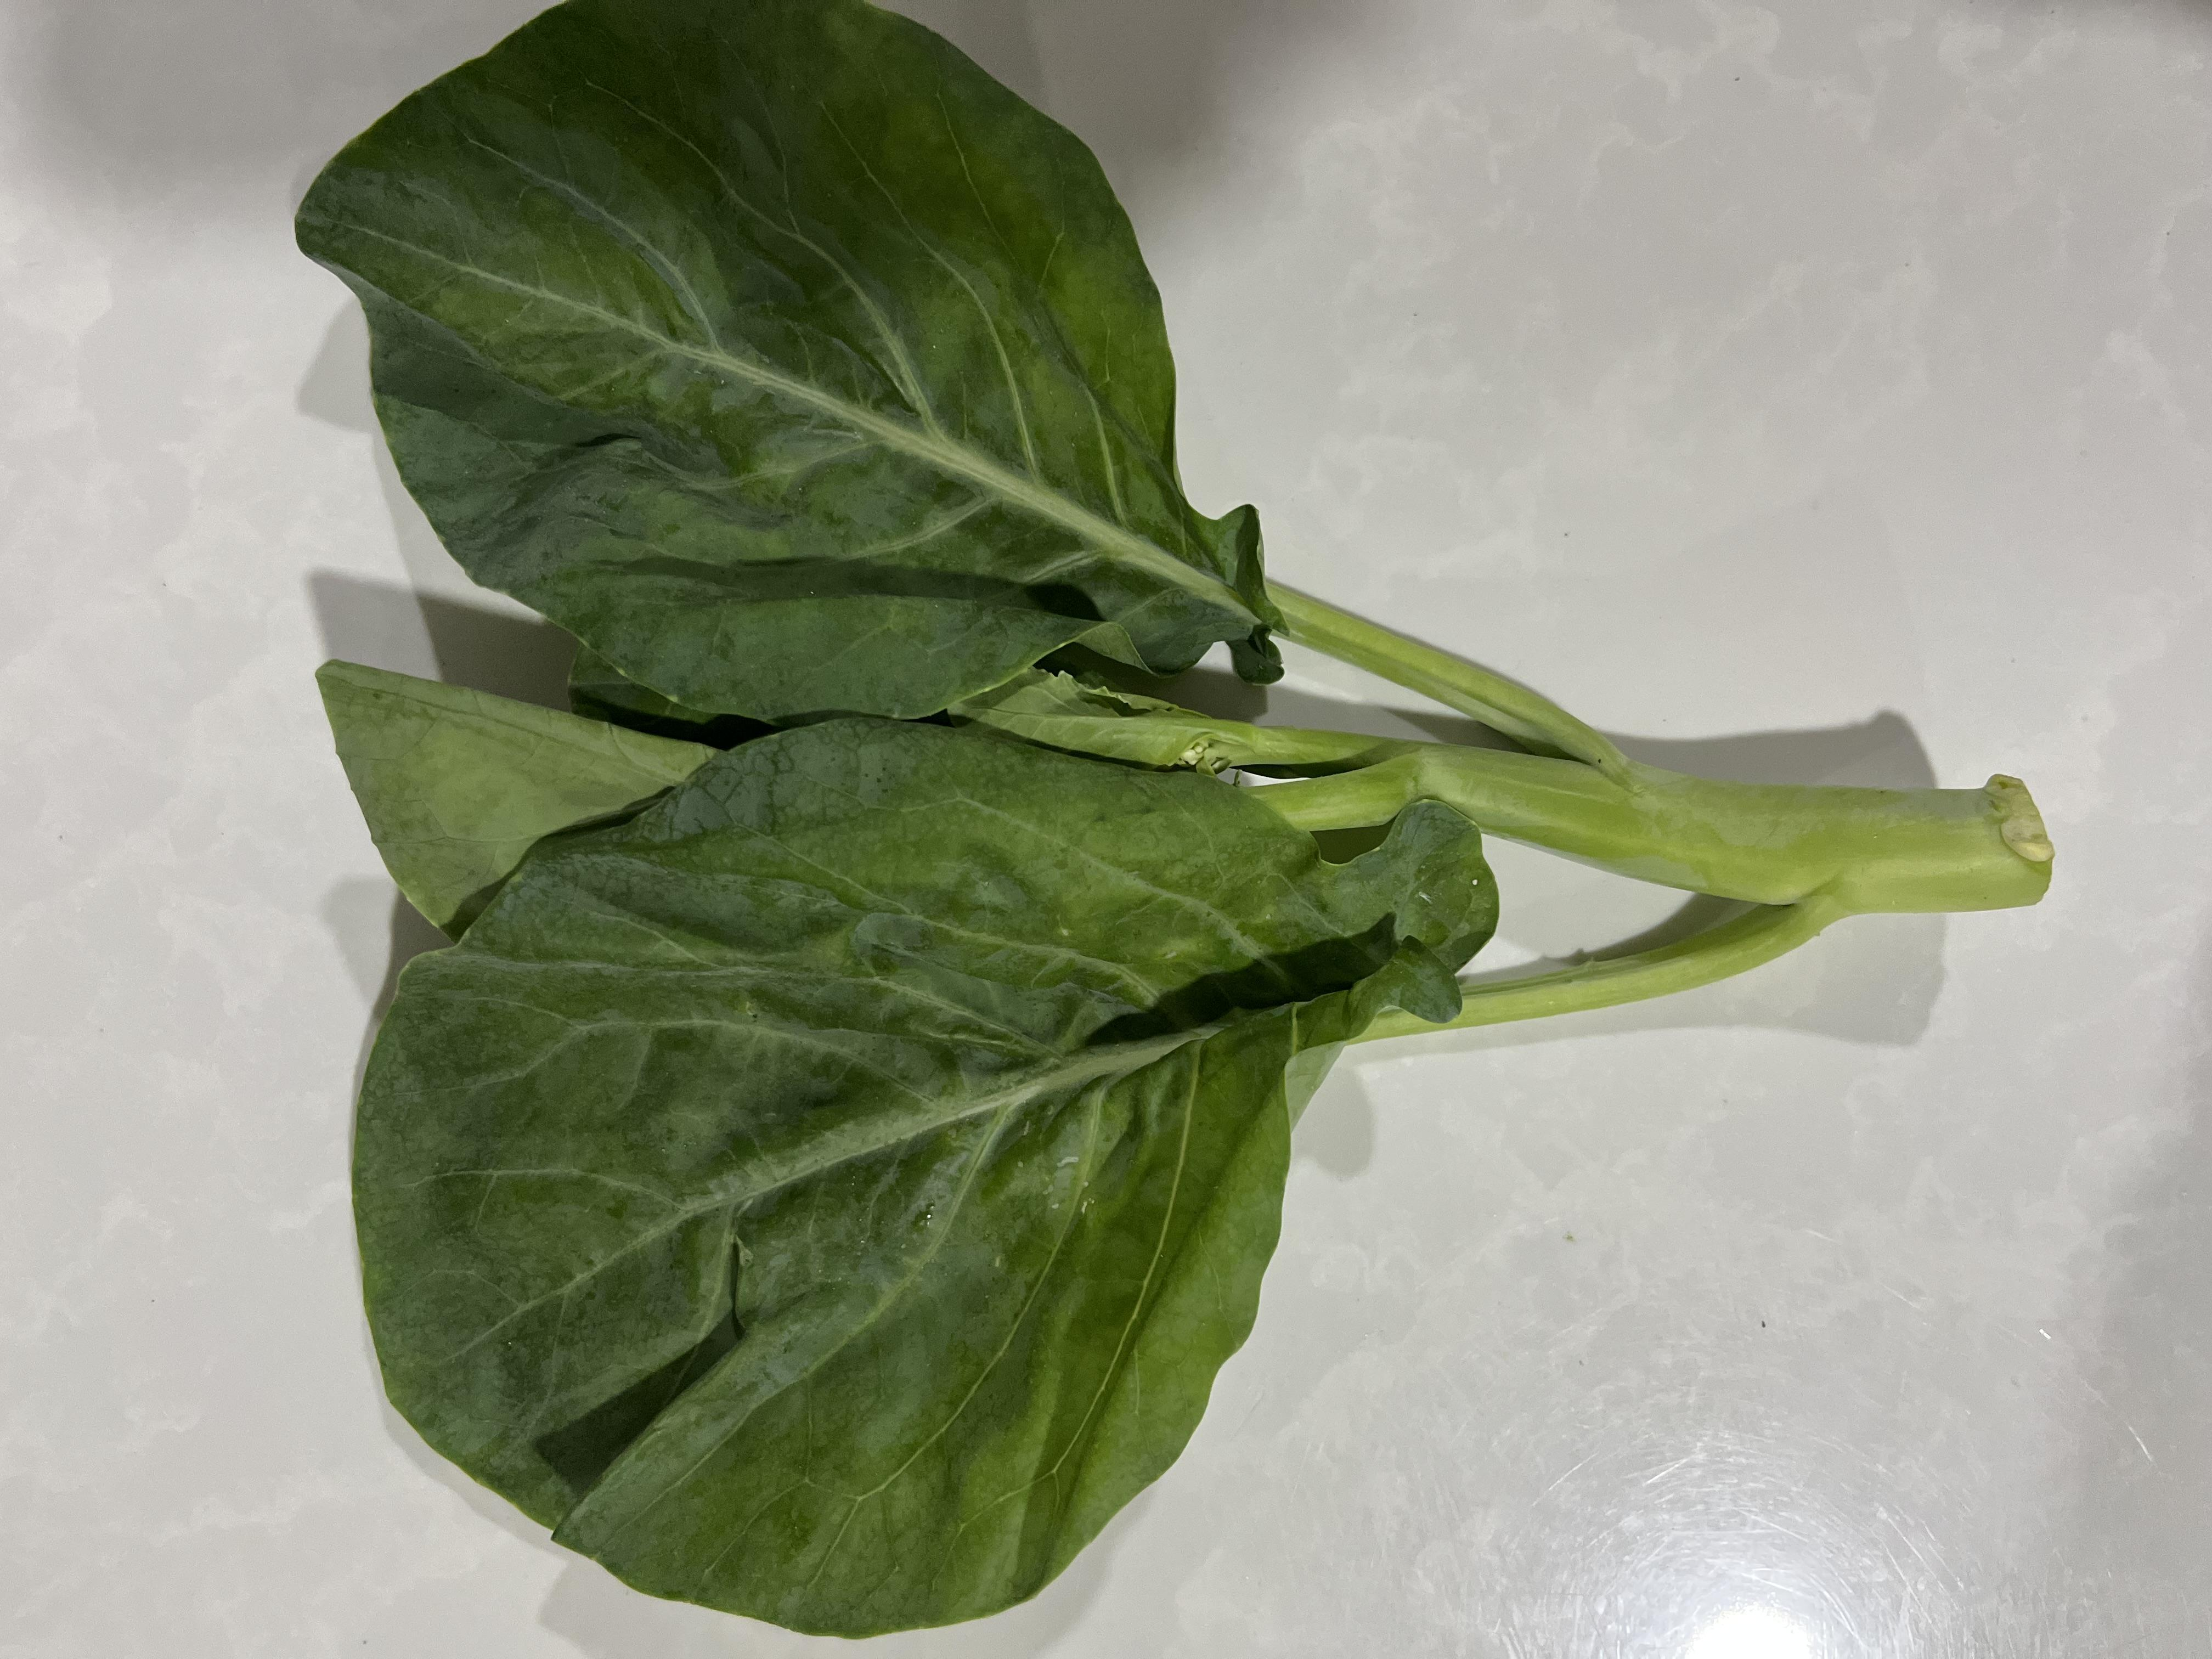Healthy-Pechay: (171, 0, 1876, 1645)
